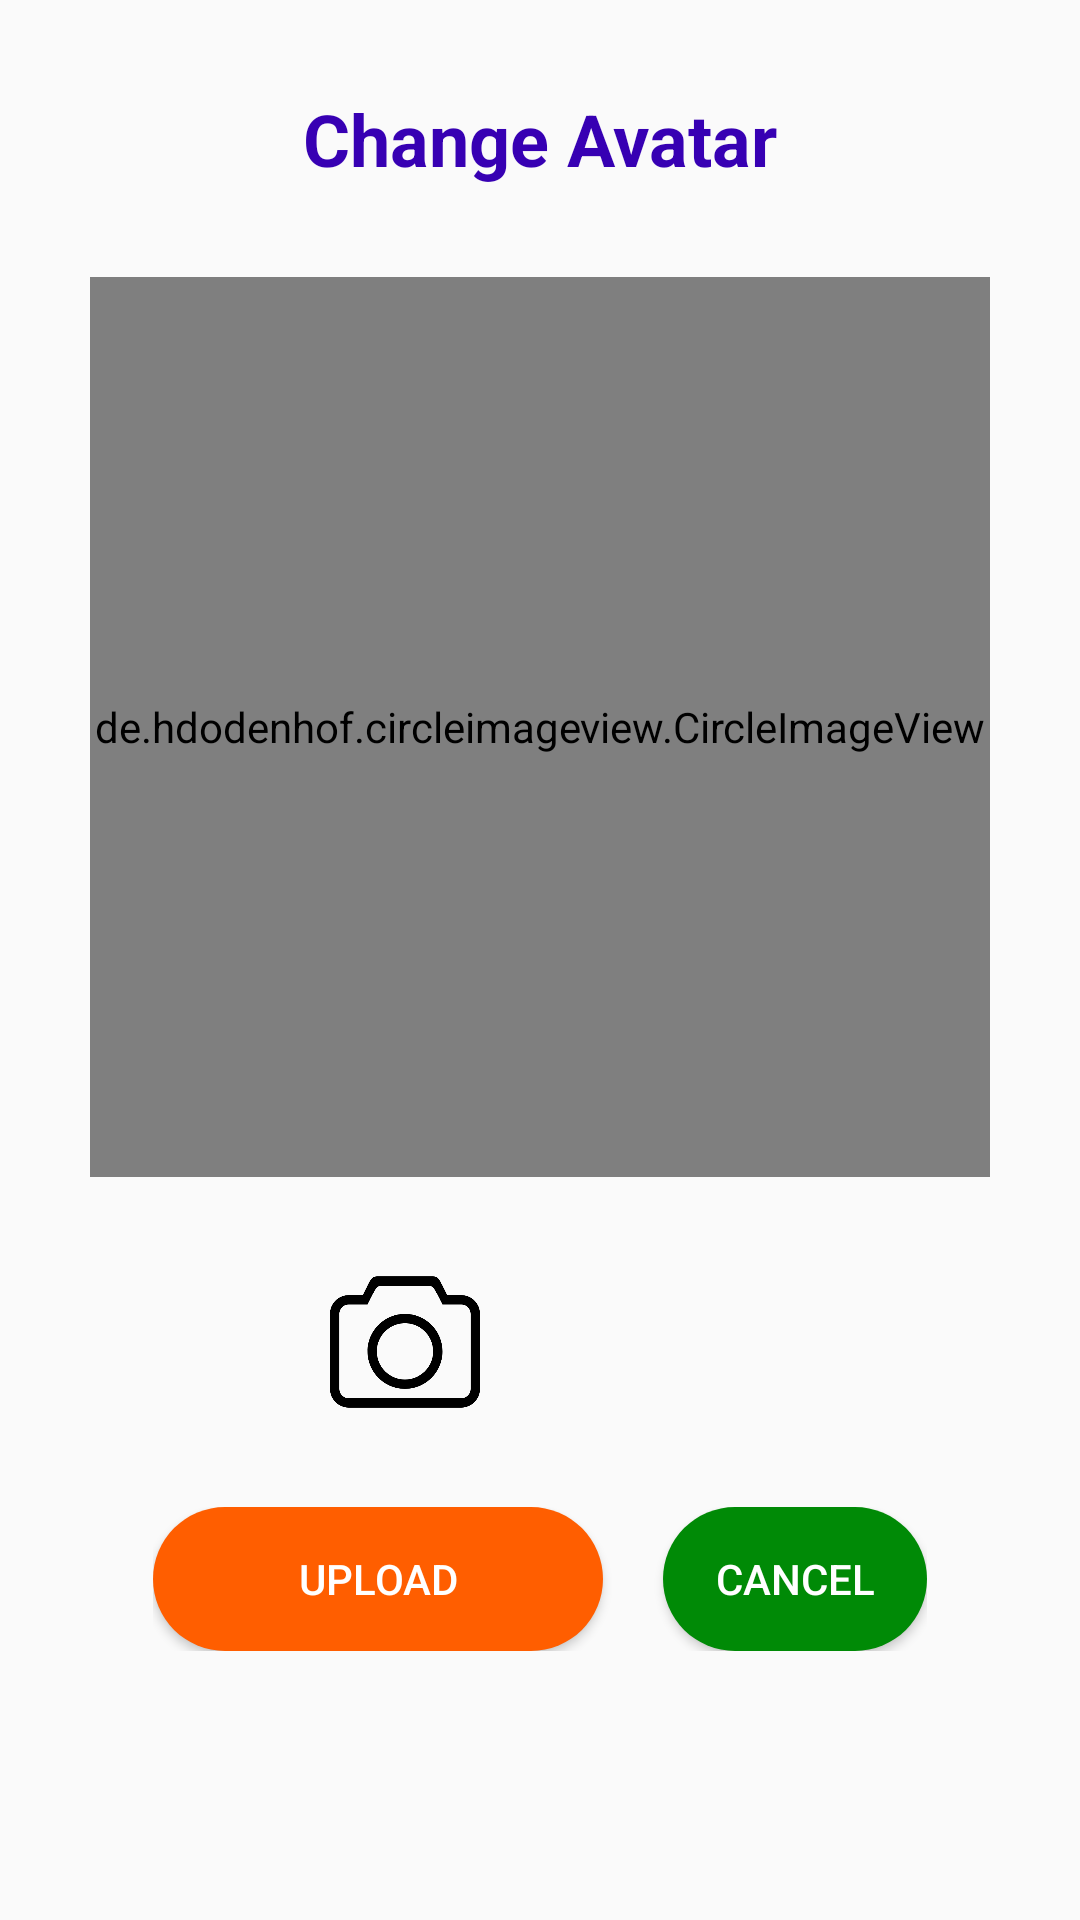

Named icons in this screenshot (1080 × 1920) and their bounding boxes, (x1, y1, x2, y2):
camera: (330, 1276, 480, 1408)
